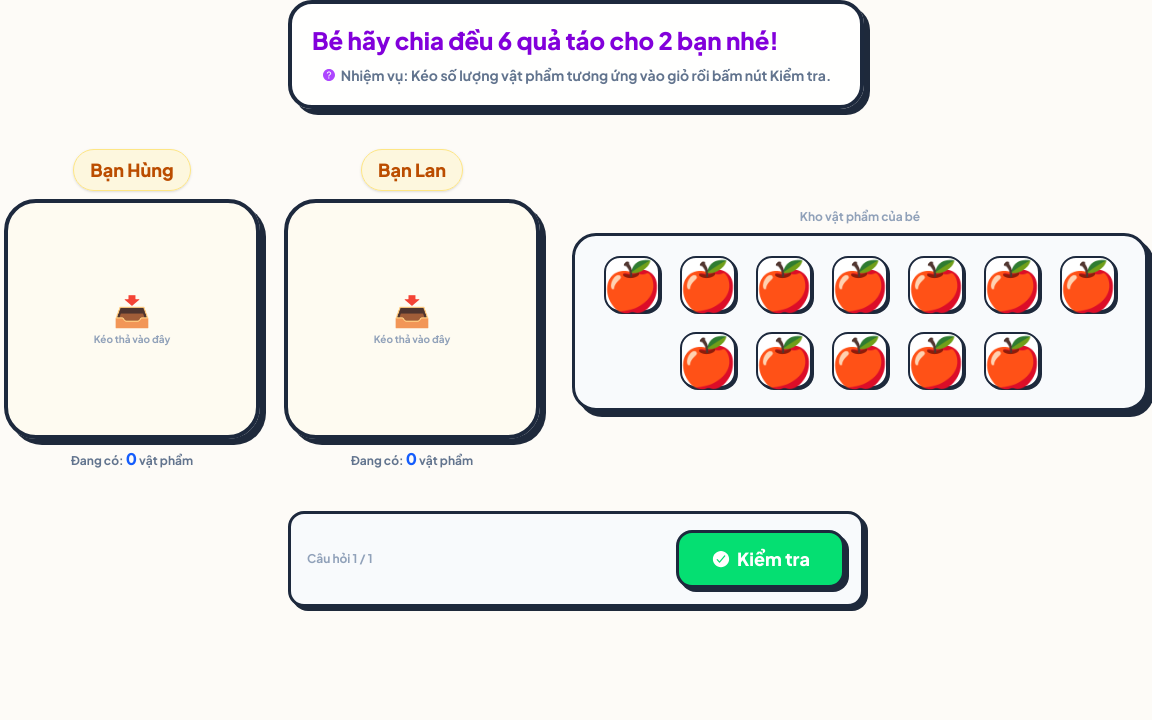
RealWorldMathGame › shows smart error hint indicating exactly which friend is missing items
Click the button "Kiểm tra": coordinates (760, 559) [676,530,845,588]
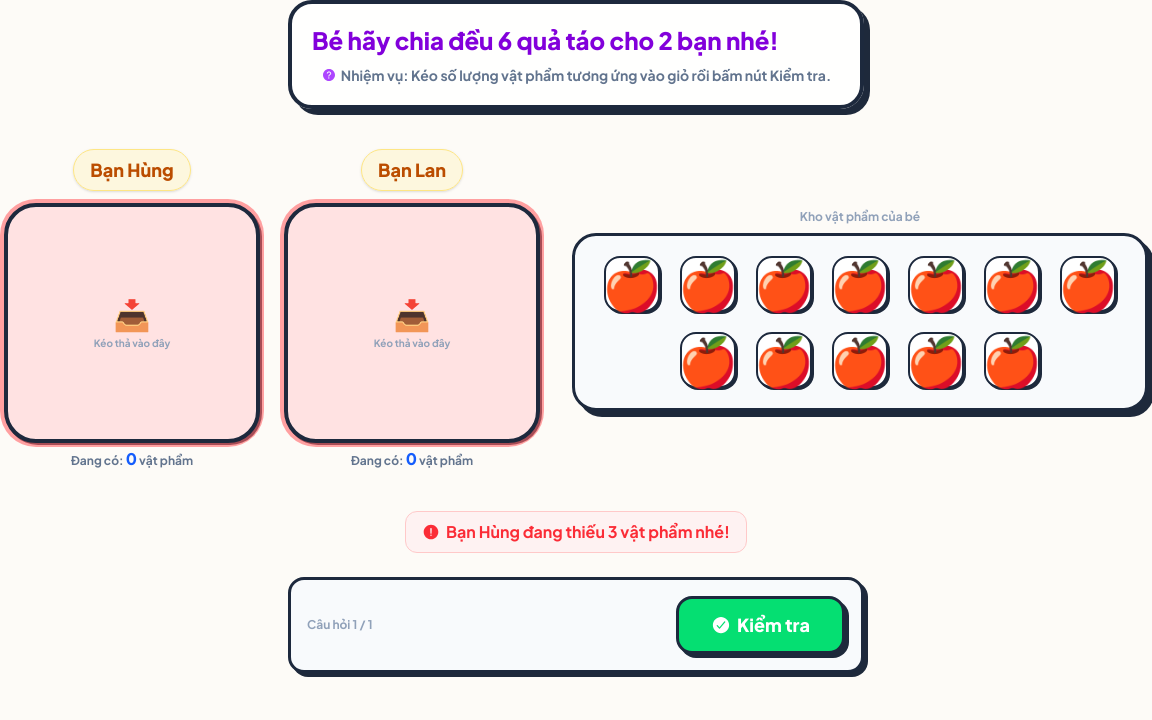
Check: the text "Bạn Hùng đang thiếu 3 vật phẩm nhé!" is shown, box [446,520,730,544]
